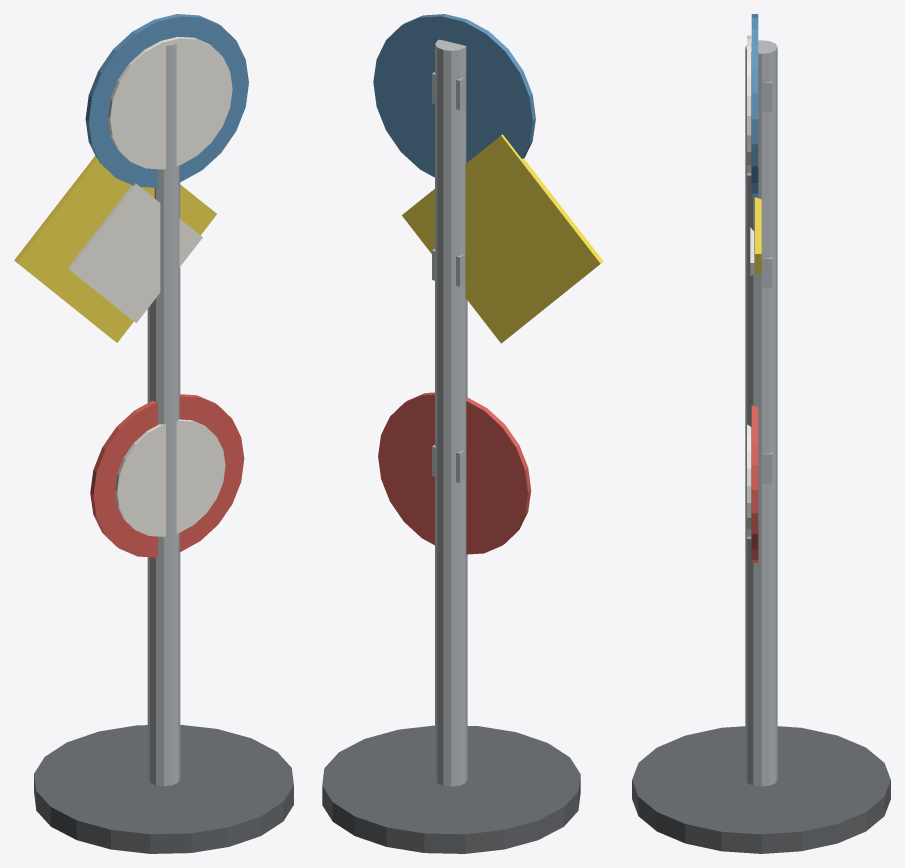
File: woodworking-workshop-and-joinery-woodworking-workshop--c2a4178a__34272.glb
3 views of the same model, side by side, from view 1: azimuth 30°, elevation 25°; view 2: azimuth 150°, elevation 25°; view 3: azimuth 270°, elevation 25° (orthographic).
Visible parts, largest first — view 1: woodworking-workshop-and-joinery-safety-sign-set; view 2: woodworking-workshop-and-joinery-safety-sign-set; view 3: woodworking-workshop-and-joinery-safety-sign-set.
Boxes of the visible parts, <box> form: woodworking-workshop-and-joinery-safety-sign-set: <box>14,14,293,853</box>; woodworking-workshop-and-joinery-safety-sign-set: <box>322,14,603,853</box>; woodworking-workshop-and-joinery-safety-sign-set: <box>632,14,890,853</box>.
Size of the model in its own units: 0.5582 by 1.59 by 0.48.
